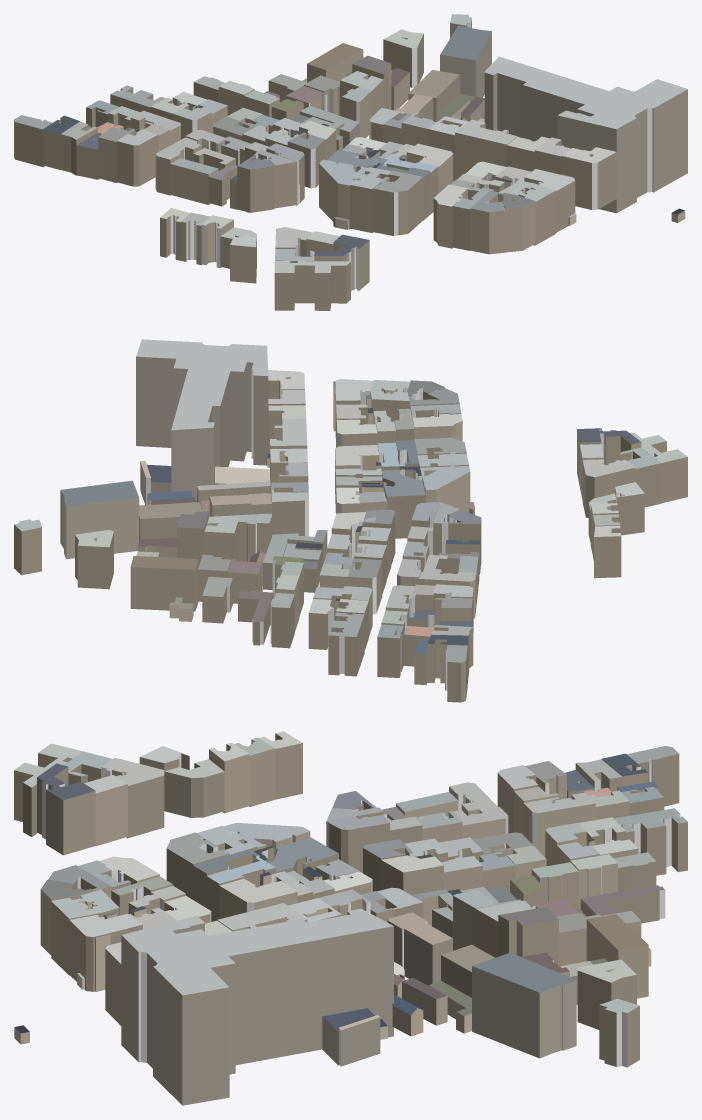
3 renders of one model, top to bottom at view 1: azimuth 30°, elevation 25°; view 2: azimuth 150°, elevation 25°; view 3: azimuth 270°, elevation 25°, orthographic. The views are drawn at different scales.
Parts seen in each view (by area): view 1: tuile; view 2: tuile; view 3: tuile.
Boxes of the visible parts, <box> form: tuile: <box>14,14,687,310</box>; tuile: <box>14,339,687,702</box>; tuile: <box>14,731,687,1105</box>.
Size of the model in its own units: 292 by 49.01 by 266.
